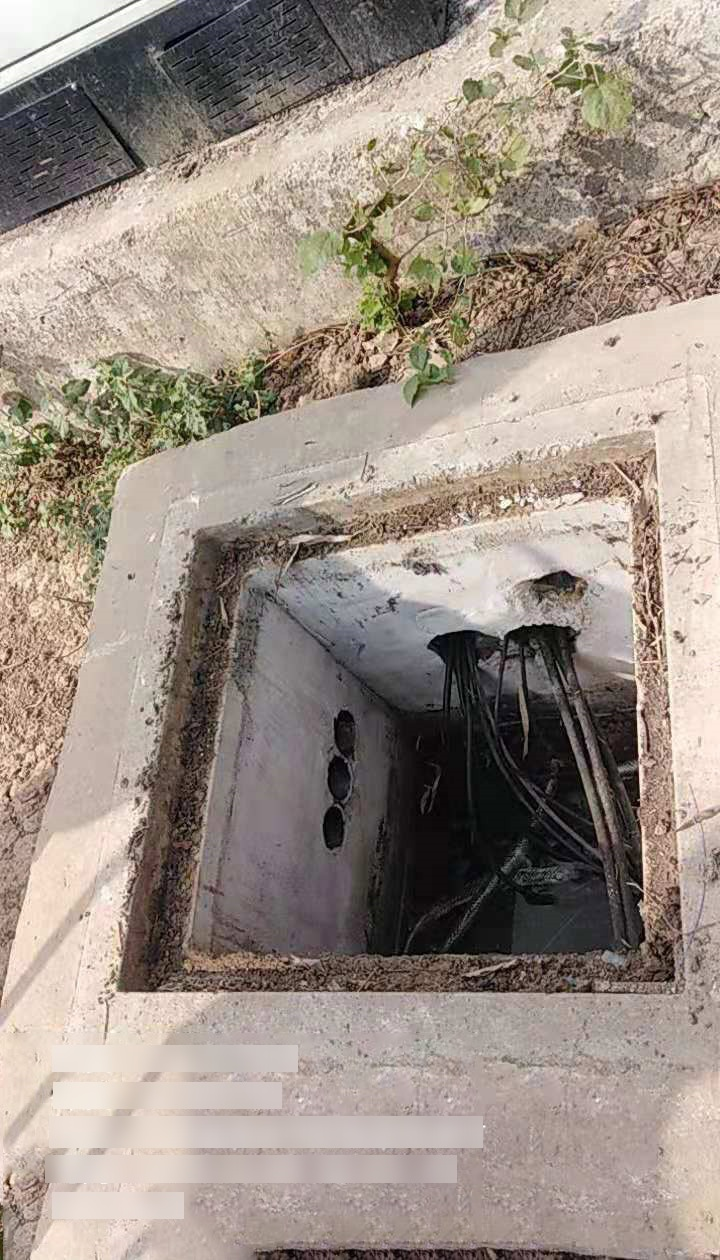lose: (60, 377, 720, 1069)
